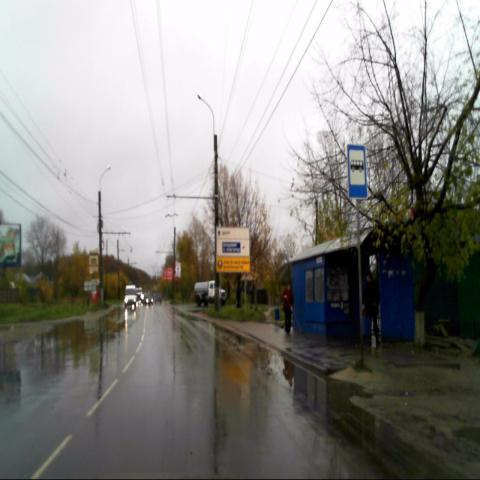5_16: (347, 144, 368, 200)
